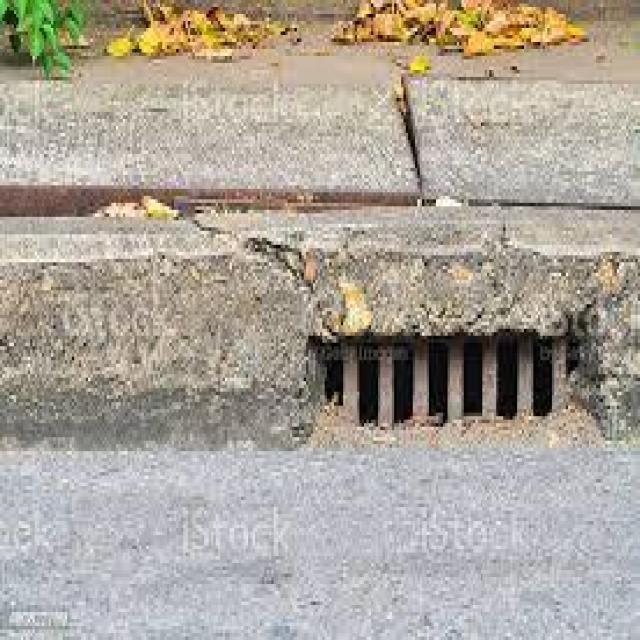curb: (1, 186, 640, 462)
